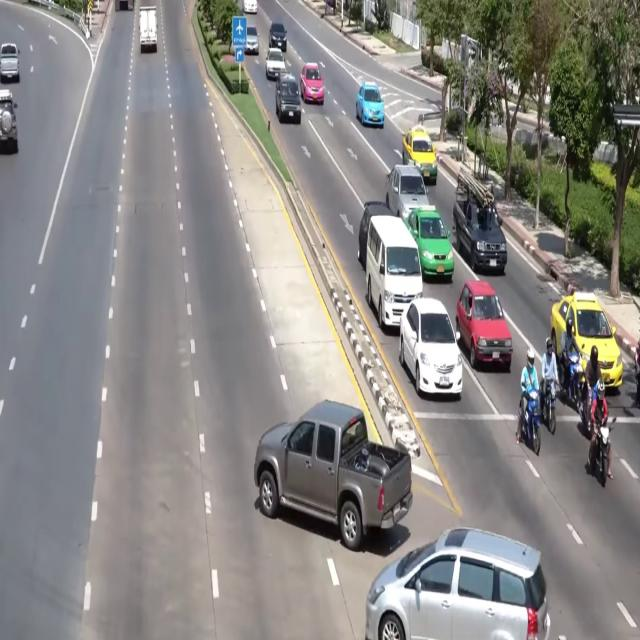car: (365, 528, 550, 639), (550, 292, 623, 387), (399, 298, 462, 399), (453, 168, 507, 274), (456, 280, 512, 370), (405, 206, 454, 281), (386, 165, 429, 220), (358, 201, 393, 268), (402, 125, 437, 184), (275, 74, 301, 124), (356, 81, 384, 127), (0, 90, 18, 152), (300, 63, 324, 104), (0, 43, 19, 82), (266, 48, 285, 79), (269, 23, 286, 51), (245, 25, 259, 55), (243, 0, 257, 14)
scooty: (590, 418, 616, 487), (523, 390, 540, 455), (566, 352, 583, 409), (542, 380, 556, 434), (579, 381, 594, 431), (634, 340, 639, 407)
truck: (254, 400, 412, 550), (139, 7, 157, 53), (115, 0, 134, 10)
